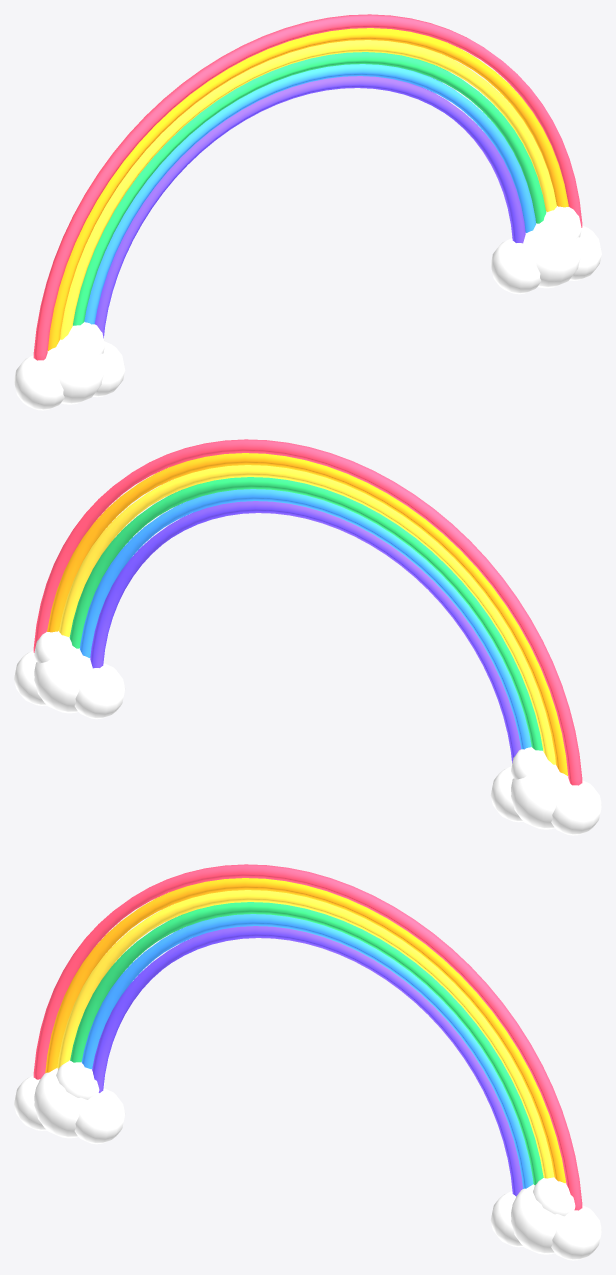
The model's file is rainbow_aura.glb.
The picture shows the model from 3 angles, top to bottom: view 1: azimuth 30°, elevation 25°; view 2: azimuth 150°, elevation 25°; view 3: azimuth 330°, elevation 25°; orthographic projection.
Parts seen in each view (by area): view 1: arc, arc.001, arc.002, arc.003, arc.004, arc.005, cloud.004, cloud, cloud.002, cloud.006, cloud.001, cloud.005 (+2 smaller); view 2: arc, arc.001, arc.002, arc.003, arc.004, arc.005, cloud.004, cloud, cloud.002, cloud.006, cloud.001, cloud.005 (+2 smaller); view 3: arc, arc.001, arc.002, arc.003, arc.004, arc.005, cloud.004, cloud, cloud.005, cloud.001, cloud.007, cloud.003 (+2 smaller).
Part boxes in pixels (left/top/right/bottom): arc: left=33, top=14, right=582, bottom=360; arc.001: left=48, top=28, right=568, bottom=350; arc.002: left=60, top=40, right=556, bottom=339; arc.003: left=73, top=52, right=546, bottom=325; arc.004: left=84, top=64, right=535, bottom=324; arc.005: left=95, top=76, right=525, bottom=338; cloud.004: left=46, top=339, right=104, bottom=404; cloud: left=512, top=223, right=581, bottom=288; cloud.002: left=490, top=238, right=541, bottom=294; cloud.006: left=14, top=355, right=64, bottom=410; cloud.001: left=569, top=225, right=601, bottom=280; cloud.005: left=92, top=341, right=125, bottom=397; arc: left=33, top=439, right=582, bottom=785; arc.001: left=47, top=453, right=567, bottom=775; arc.002: left=59, top=465, right=555, bottom=764; arc.003: left=69, top=477, right=542, bottom=750; arc.004: left=80, top=489, right=531, bottom=749; arc.005: left=90, top=501, right=520, bottom=763; cloud.004: left=511, top=764, right=569, bottom=829; cloud: left=34, top=648, right=103, bottom=713; cloud.002: left=74, top=663, right=125, bottom=719; cloud.006: left=551, top=780, right=601, bottom=835; cloud.001: left=14, top=650, right=46, bottom=705; cloud.005: left=490, top=766, right=523, bottom=822; arc: left=33, top=864, right=582, bottom=1210; arc.001: left=45, top=878, right=565, bottom=1183; arc.002: left=57, top=890, right=554, bottom=1178; arc.003: left=70, top=902, right=543, bottom=1184; arc.004: left=81, top=914, right=533, bottom=1188; arc.005: left=92, top=926, right=522, bottom=1196; cloud.004: left=34, top=1068, right=87, bottom=1138; cloud: left=511, top=1184, right=563, bottom=1254; cloud.005: left=74, top=1088, right=125, bottom=1144; cloud.001: left=551, top=1205, right=601, bottom=1260; cloud.007: left=56, top=1060, right=104, bottom=1099; cloud.003: left=533, top=1177, right=575, bottom=1216.
Bounding box in the file's own units: 2.33 × 1.23 × 0.26.
